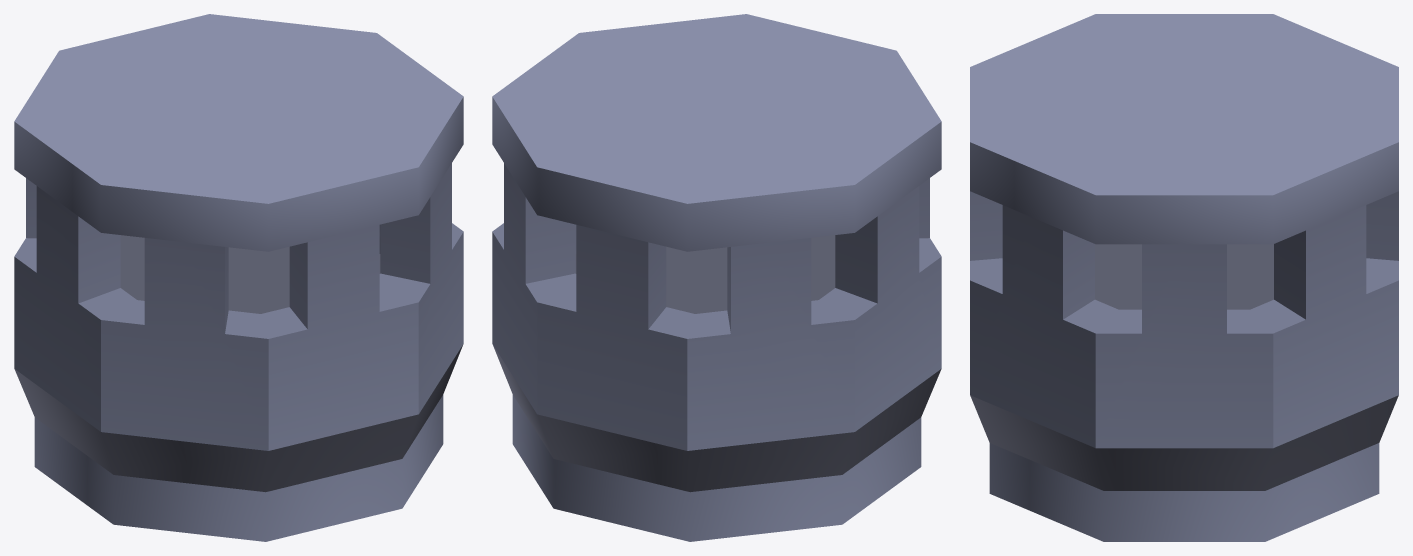
Rendered from tower-watch.glb.
3 views of the same model, side by side, from view 1: azimuth 30°, elevation 25°; view 2: azimuth 150°, elevation 25°; view 3: azimuth 270°, elevation 25° (orthographic). The views are drawn at different scales.
Visible parts, largest first — view 1: tower-watch; view 2: tower-watch; view 3: tower-watch.
Boxes of the visible parts, x1,y1,x2,y2 form: tower-watch: [14, 14, 463, 541]; tower-watch: [492, 14, 941, 541]; tower-watch: [970, 14, 1398, 541].
Bounding box in the file's own units: 3.05 × 2.78 × 3.05.
